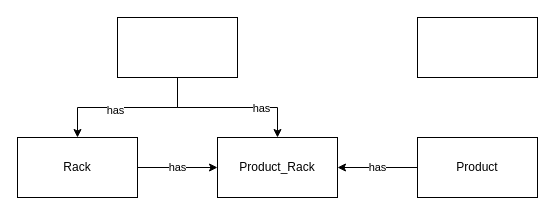
This 555x215 diagram has some shape labels left out. Here are the shapes that lost their labels. From the top down, the box of each, then its label:
(116, 16, 238, 78): Shelf
(416, 16, 538, 78): User
